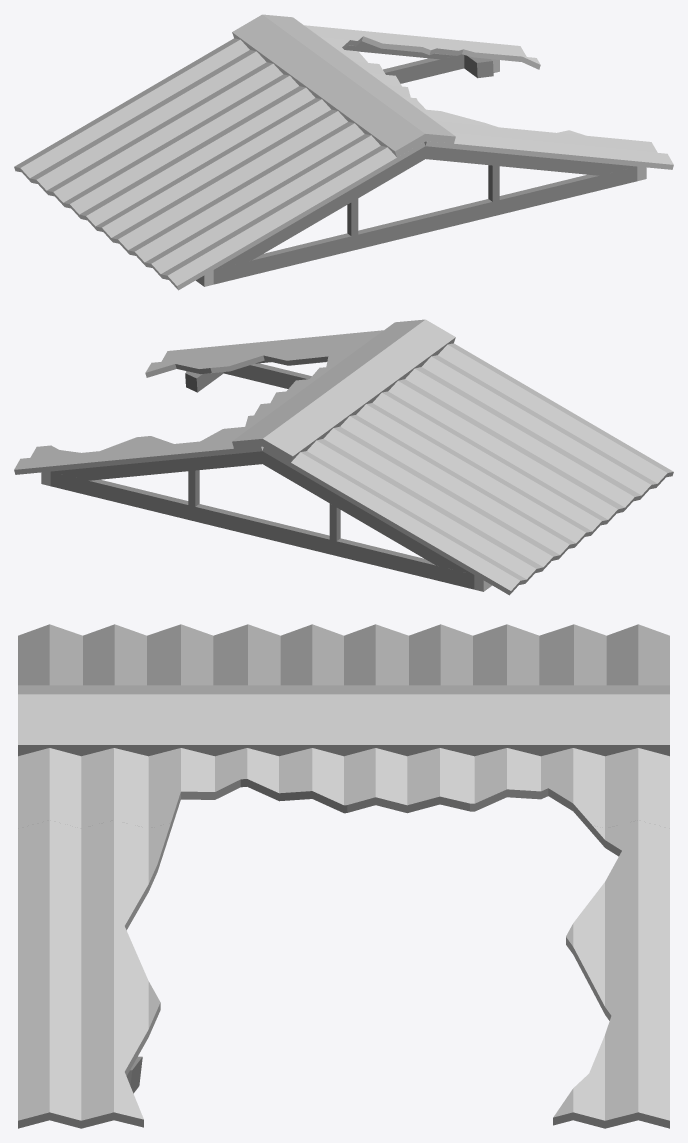
File: Wh_Roof_Damaged_9m.fbx
3 renders of one model, top to bottom at view 1: azimuth 30°, elevation 25°; view 2: azimuth 150°, elevation 25°; view 3: azimuth 270°, elevation 25°, orthographic. The views are drawn at different scales.
Parts seen in each view (by area): view 1: Cube.1078; view 2: Cube.1078; view 3: Cube.1078.
Part boxes in pixels (x1=…): Cube.1078: x1=14, y1=14, x2=673, y2=290; Cube.1078: x1=14, y1=319, x2=673, y2=595; Cube.1078: x1=18, y1=624, x2=669, y2=1128.
Size of the model in its own units: 1063 by 202 by 600.
